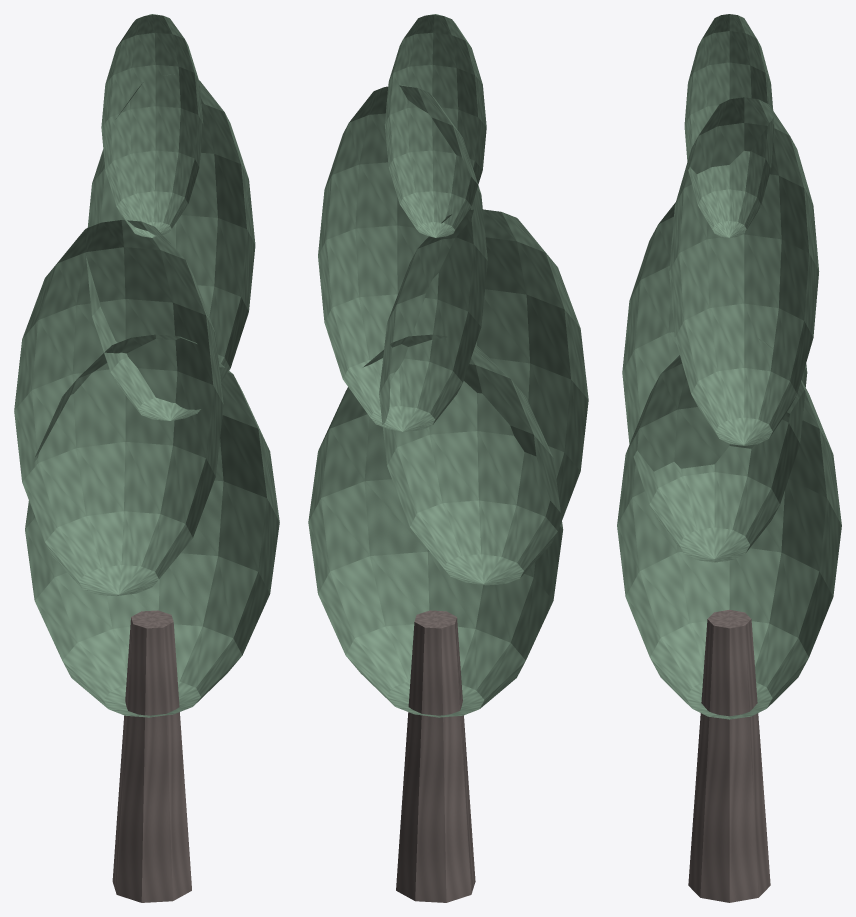
Rendered from lantern-watch-courtyard-cypress__84.glb.
3 renders of one model, left to right at view 1: azimuth 30°, elevation 25°; view 2: azimuth 150°, elevation 25°; view 3: azimuth 270°, elevation 25°, orthographic.
Parts seen in each view (by area): view 1: lantern-watch-courtyard-cypress; view 2: lantern-watch-courtyard-cypress; view 3: lantern-watch-courtyard-cypress.
Part boxes in pixels (x1,y1,x2,y2): lantern-watch-courtyard-cypress: [14, 14, 279, 902]; lantern-watch-courtyard-cypress: [308, 14, 588, 902]; lantern-watch-courtyard-cypress: [617, 14, 841, 902].
Size of the model in its own units: 0.98 by 3.27 by 0.765.
2 materials, 2 textured.
